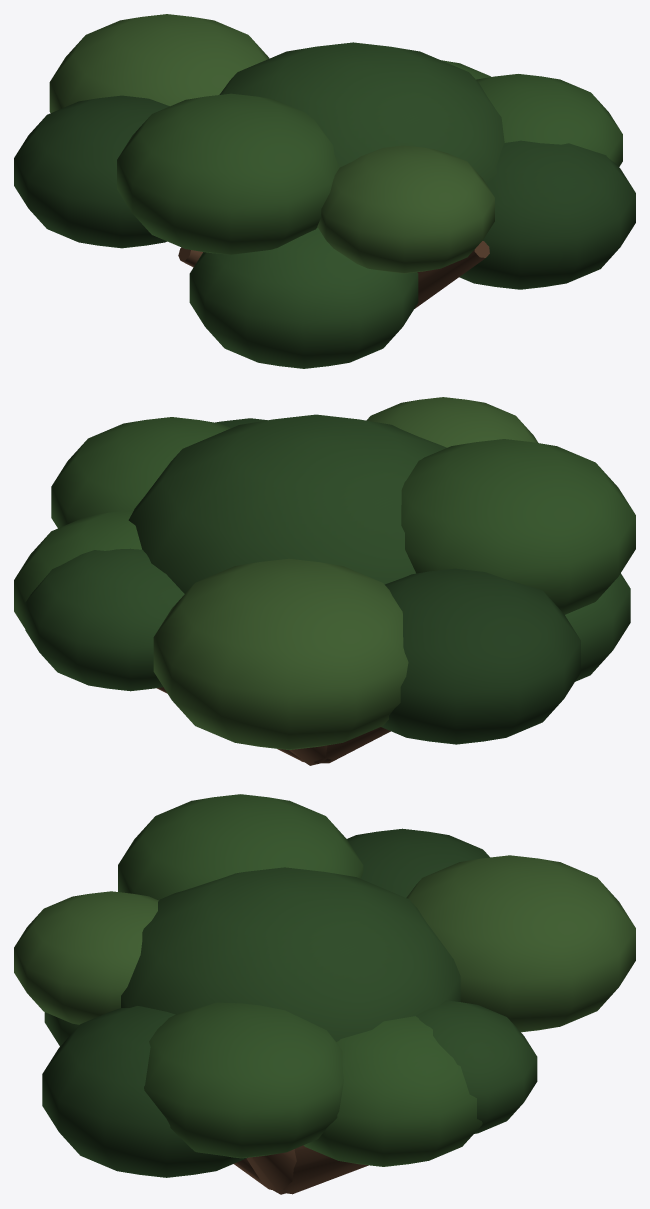
The model's file is copa_gigante_b.glb.
The picture shows the model from 3 angles, top to bottom: view 1: azimuth 30°, elevation 25°; view 2: azimuth 150°, elevation 25°; view 3: azimuth 270°, elevation 25°; orthographic projection. The views are drawn at different scales.
Visible parts, largest first — view 1: copa_gigante_b_Malla; view 2: copa_gigante_b_Malla; view 3: copa_gigante_b_Malla.
Boxes of the visible parts, bbox=[...] form: copa_gigante_b_Malla: bbox=[14, 14, 635, 368]; copa_gigante_b_Malla: bbox=[14, 397, 635, 765]; copa_gigante_b_Malla: bbox=[14, 794, 635, 1194].
Size of the model in its own units: 21.16 by 11.36 by 20.98.
